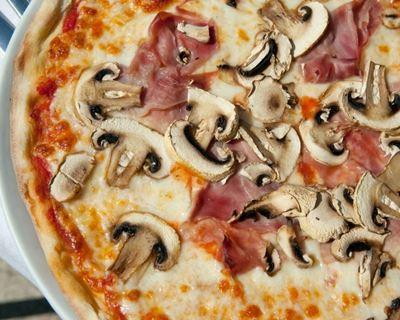champignon: (108, 212, 183, 283), (68, 59, 146, 127), (91, 129, 177, 189), (254, 1, 333, 59), (334, 62, 400, 131), (167, 121, 235, 182), (232, 30, 300, 88), (237, 120, 301, 181), (353, 169, 400, 233), (332, 236, 376, 299), (300, 114, 351, 167), (49, 151, 94, 201)
